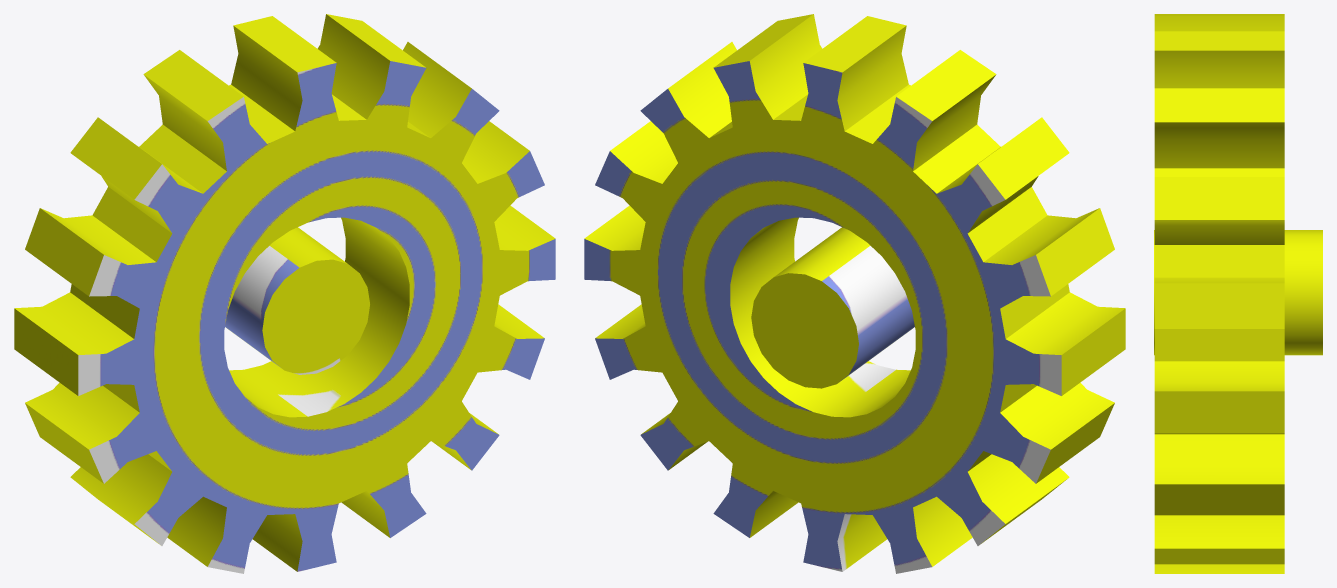
The model's file is UV_gearBig.fbx.
The picture shows the model from 3 angles, left to right: view 1: azimuth 30°, elevation 25°; view 2: azimuth 150°, elevation 25°; view 3: azimuth 270°, elevation 25°; orthographic projection.
Parts seen in each view (by area): view 1: gearBig1; view 2: gearBig1; view 3: gearBig1.
Boxes of the visible parts, x1,y1,x2,y2 form: gearBig1: (14, 14, 555, 573); gearBig1: (584, 14, 1125, 573); gearBig1: (1154, 14, 1322, 573).
Size of the model in its own units: 11.13 by 11.13 by 3.37.
Materials: 1 (1 with a texture image).
